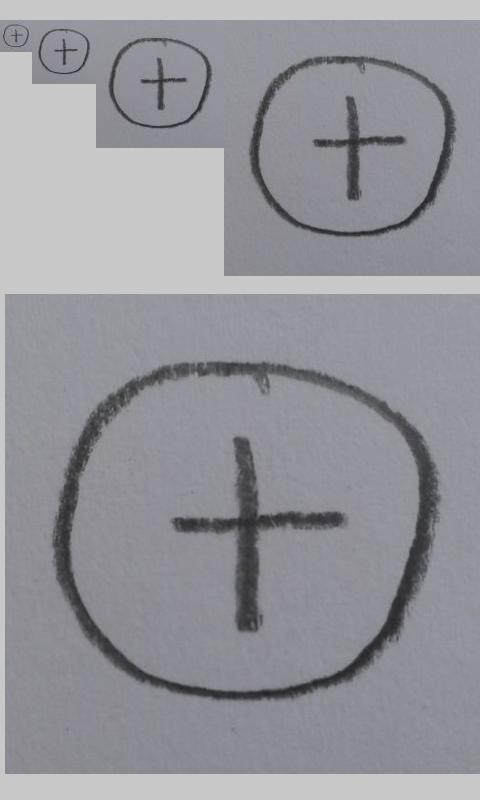button: (50, 359, 440, 702), (249, 56, 456, 237), (109, 37, 212, 129), (38, 28, 91, 75), (3, 24, 29, 48)
